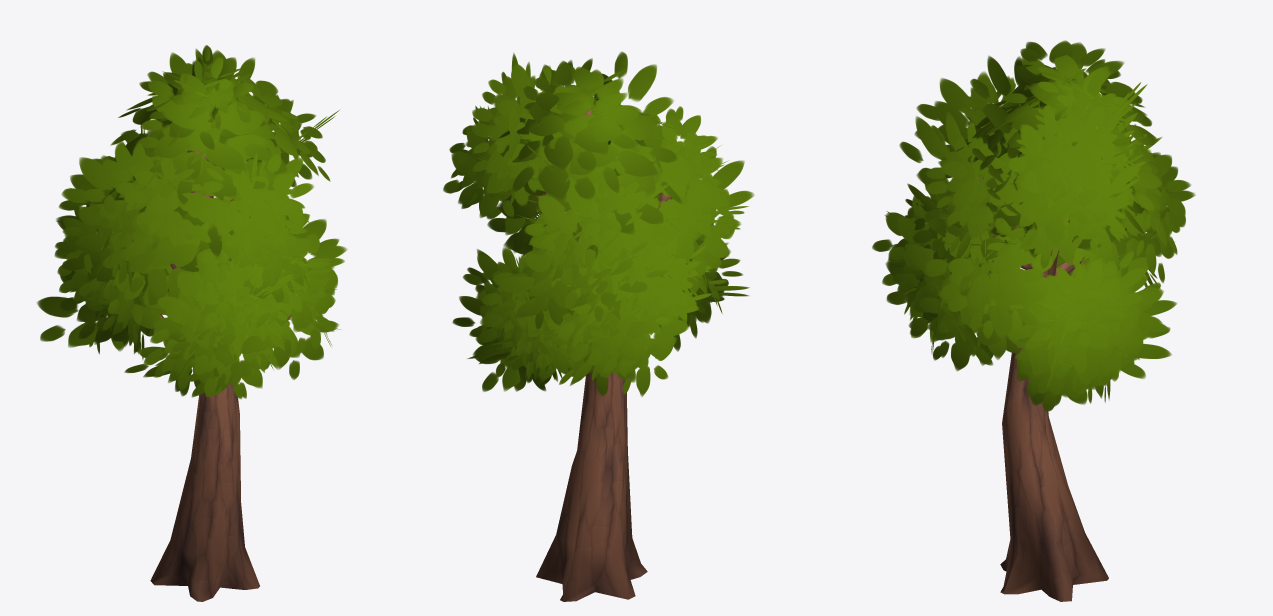
The model's file is broad-3.glb.
3 views of the same model, side by side, from view 1: azimuth 30°, elevation 25°; view 2: azimuth 150°, elevation 25°; view 3: azimuth 270°, elevation 25° (orthographic). The views are drawn at different scales.
Visible parts, largest first — view 1: CommonTree_1; view 2: CommonTree_1; view 3: CommonTree_1.
Part boxes in pixels (x1,y1,x2,y2): CommonTree_1: [37, 45, 347, 601]; CommonTree_1: [443, 51, 754, 601]; CommonTree_1: [872, 40, 1195, 601].
Size of the model in its own units: 4.75 by 7.54 by 5.3.
2 materials, 2 textured.
